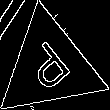P_SE: (20, 35, 78, 98)
